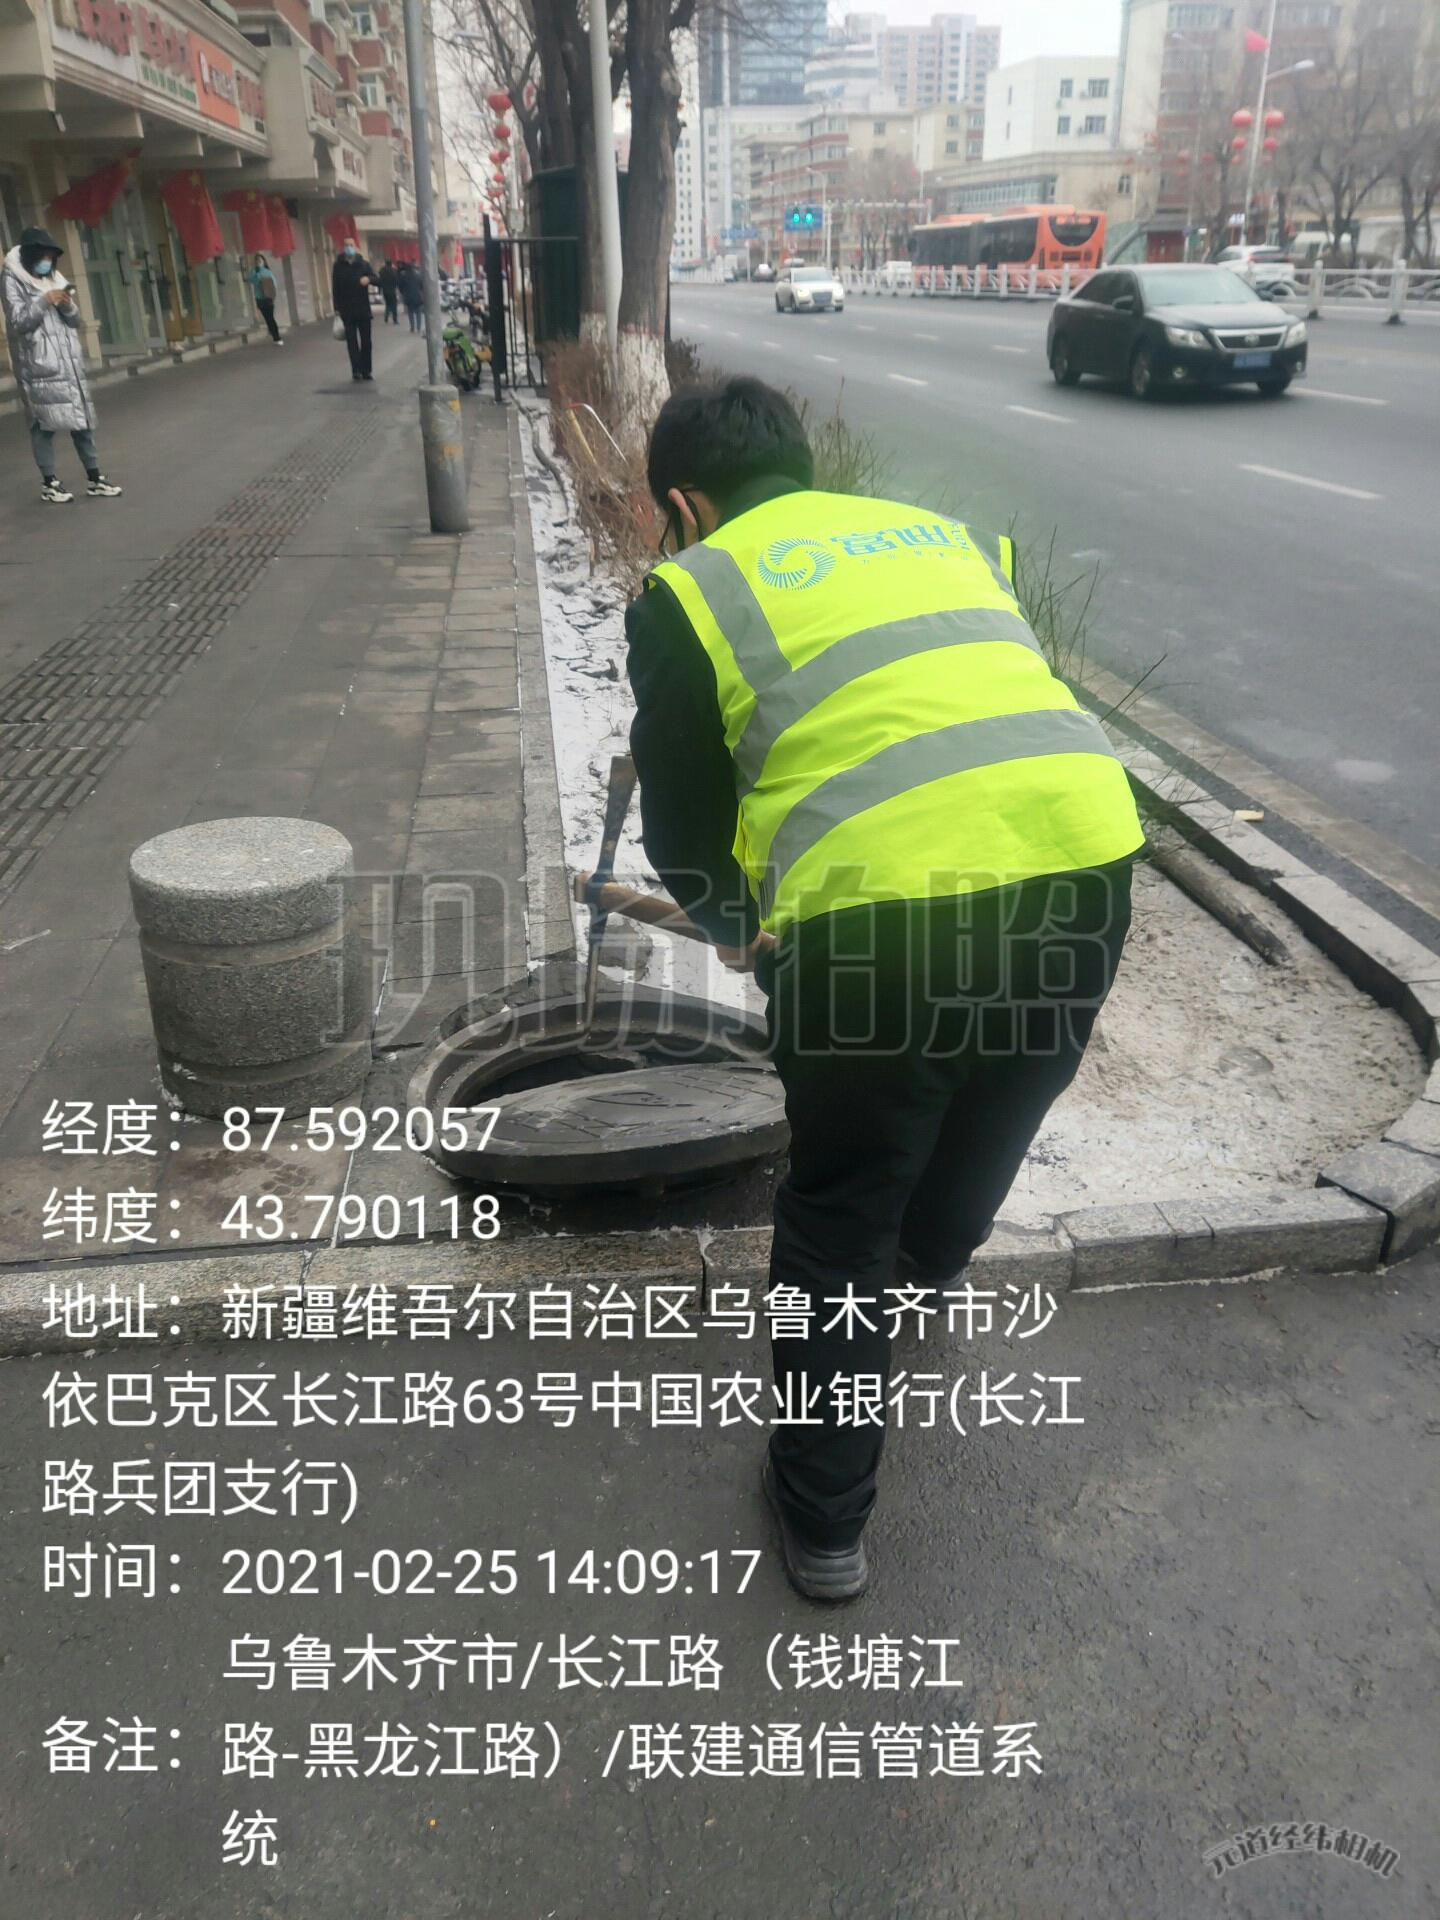wellcover: (378, 951, 849, 1249)
